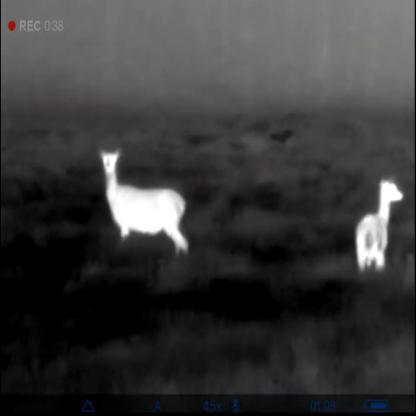rehkitze: (97, 148, 194, 257), (355, 180, 407, 275)
